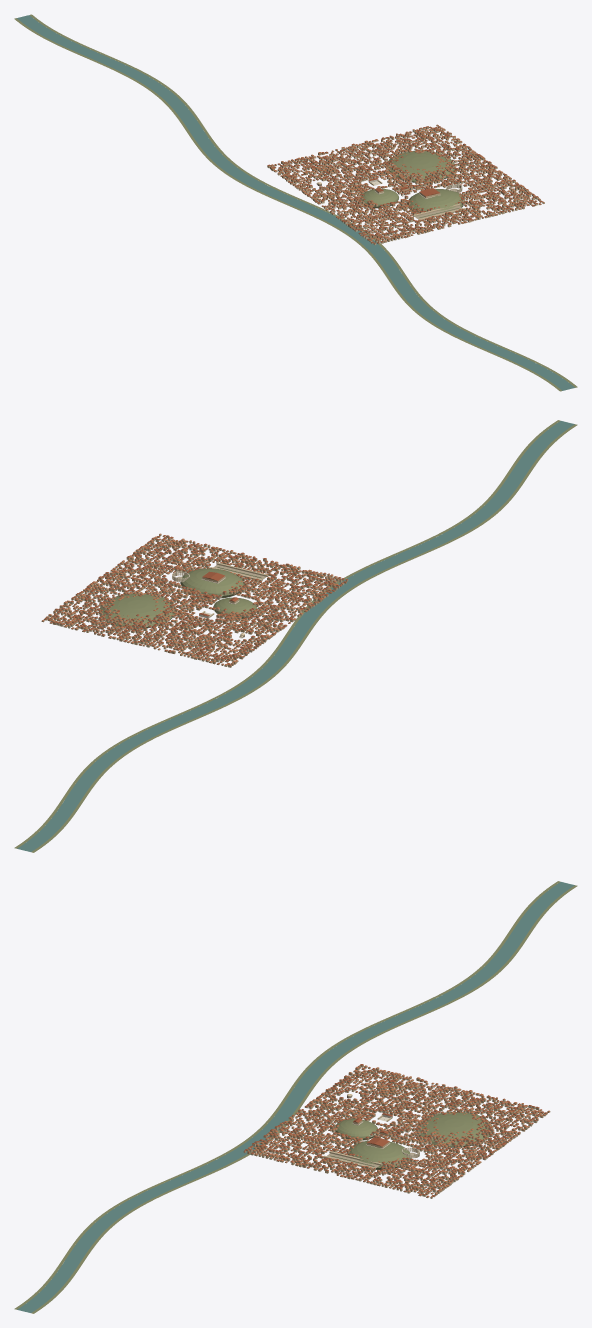
Rendered from overview.glb.
3 views of the same model, one above another, from view 1: azimuth 30°, elevation 25°; view 2: azimuth 150°, elevation 25°; view 3: azimuth 330°, elevation 25° (orthographic). The views are drawn at different scales.
Parts seen in each view (by area): view 1: scenery_water, scenery_grass, scenery_roof, scenery_roof_light, scenery_plaster, scenery_travertine, scenery_plaster_light; view 2: scenery_water, scenery_grass, scenery_roof, scenery_roof_light, scenery_travertine, scenery_plaster, scenery_plaster_light; view 3: scenery_water, scenery_grass, scenery_roof, scenery_roof_light, scenery_plaster_light, scenery_travertine, scenery_plaster.
Boxes of the visible parts, <box> form: scenery_water: <box>17,15,574,390</box>; scenery_grass: <box>14,14,577,391</box>; scenery_roof: <box>267,126,542,243</box>; scenery_roof_light: <box>270,124,544,241</box>; scenery_plaster: <box>269,125,540,244</box>; scenery_travertine: <box>271,128,544,245</box>; scenery_plaster_light: <box>267,127,541,241</box>; scenery_water: <box>17,421,574,851</box>; scenery_grass: <box>14,420,577,852</box>; scenery_roof: <box>44,535,347,665</box>; scenery_roof_light: <box>42,533,343,665</box>; scenery_travertine: <box>45,534,348,666</box>; scenery_plaster: <box>41,537,346,665</box>; scenery_plaster_light: <box>44,536,339,667</box>; scenery_water: <box>17,882,574,1312</box>; scenery_grass: <box>14,881,577,1313</box>; scenery_roof: <box>244,1064,547,1197</box>; scenery_roof_light: <box>248,1065,549,1197</box>; scenery_plaster_light: <box>252,1065,547,1197</box>; scenery_travertine: <box>243,1066,546,1198</box>; scenery_plaster: <box>245,1066,550,1195</box>.
Size of what is drawn, in the model's own units: 2802 by 223 by 12000.
